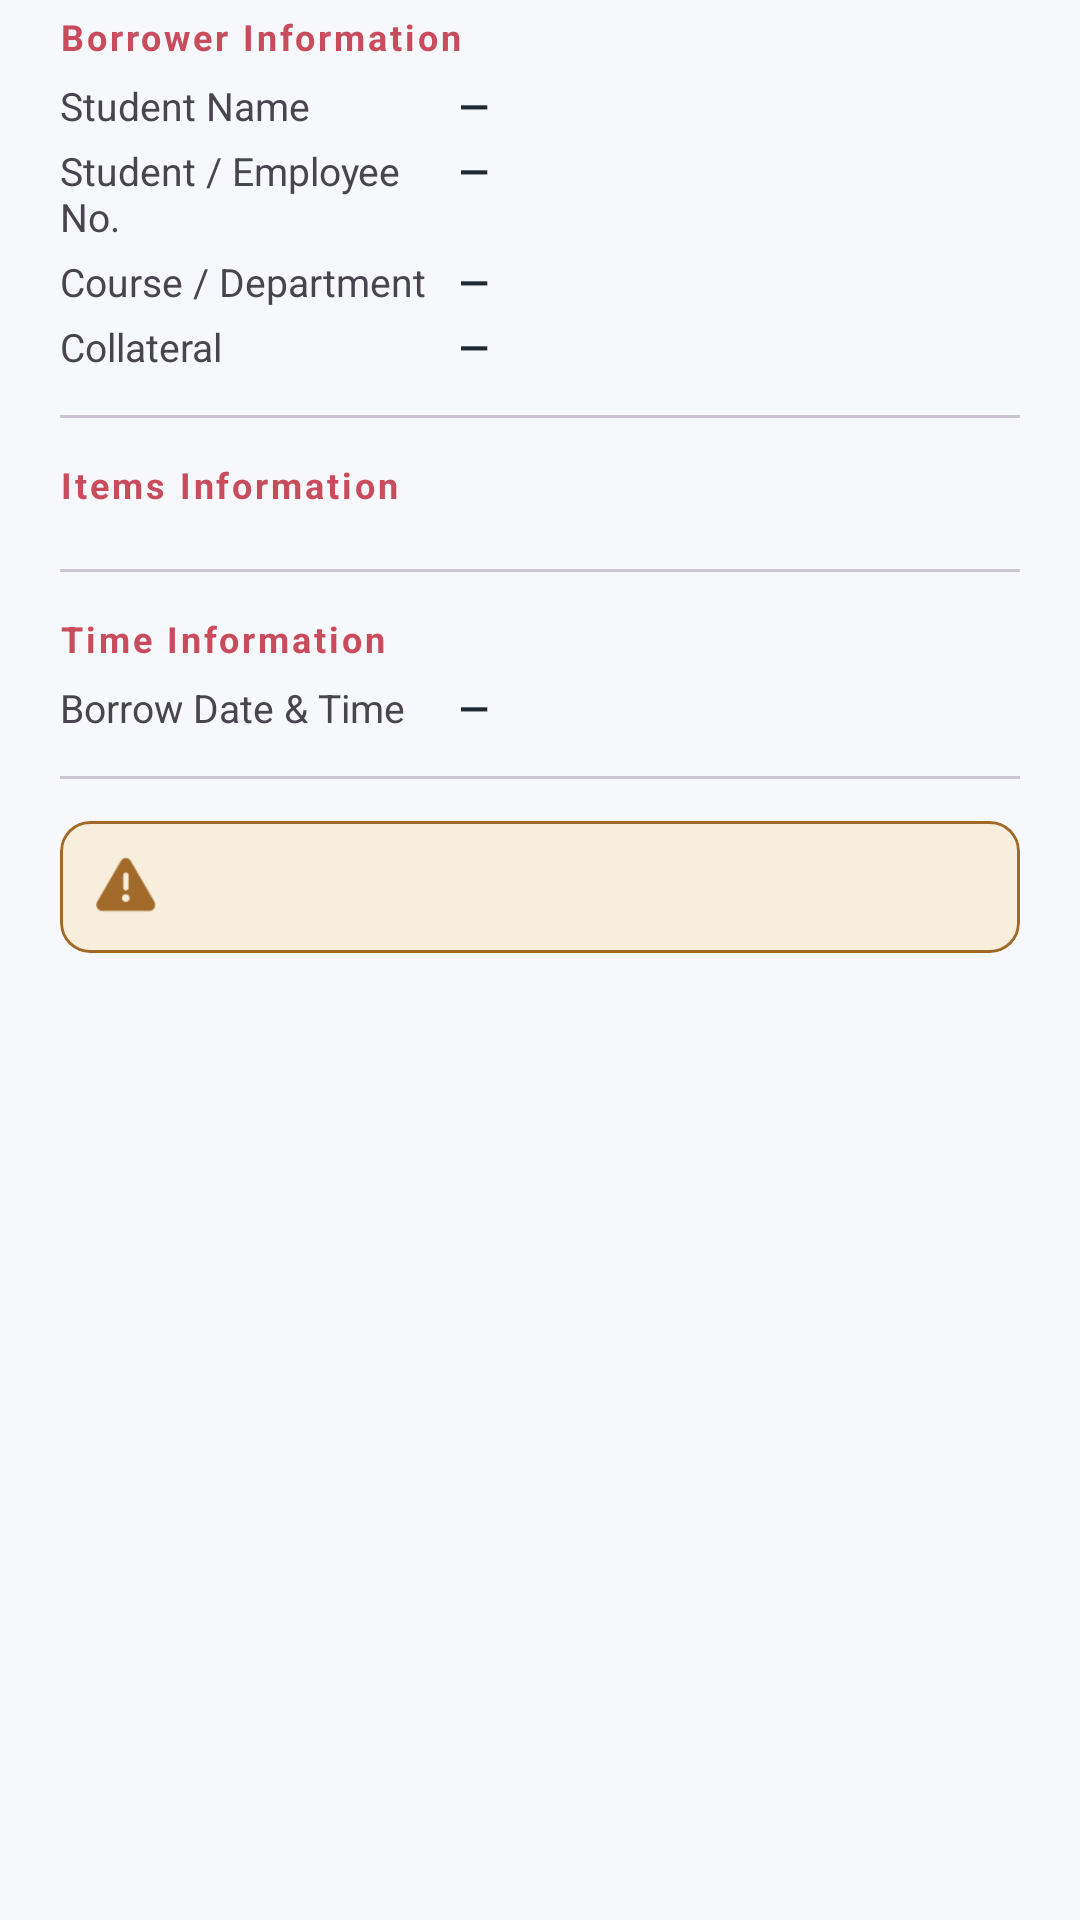

Locate icon controls on the screen. Image size 1080×1920, boxes as (x1, y1, x2, y2).
alert: (96, 857, 156, 912)
